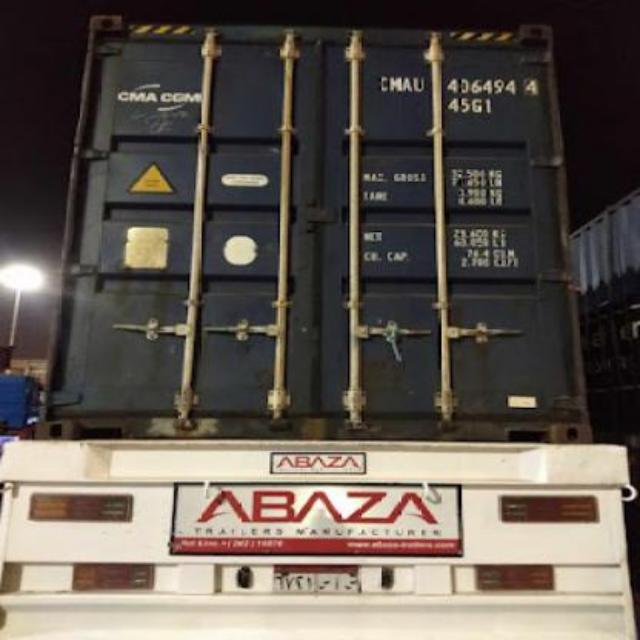0: (458, 76, 470, 94)
4: (444, 77, 458, 93), (482, 78, 494, 96), (504, 78, 516, 94), (526, 80, 538, 94)
6: (470, 76, 480, 96)
9: (494, 76, 506, 96)
A: (402, 76, 414, 94)
C: (376, 75, 389, 91)
M: (390, 76, 402, 94)
U: (411, 76, 424, 94)
